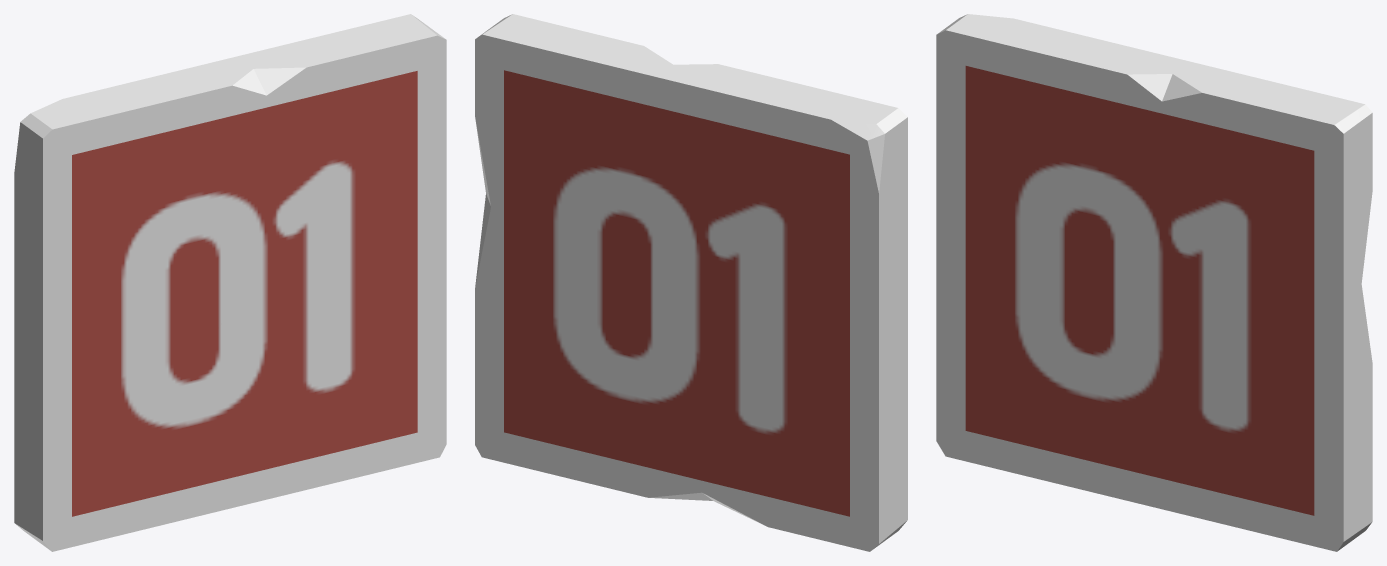
Rendered from SM_SignBorder_Number_01.fbx.
3 renders of one model, left to right at view 1: azimuth 30°, elevation 25°; view 2: azimuth 150°, elevation 25°; view 3: azimuth 330°, elevation 25°, orthographic.
Parts seen in each view (by area): view 1: SM_SignBorder_Number_01; view 2: SM_SignBorder_Number_01; view 3: SM_SignBorder_Number_01.
Boxes of the visible parts, bbox=[...] form: SM_SignBorder_Number_01: bbox=[14, 14, 446, 551]; SM_SignBorder_Number_01: bbox=[475, 14, 907, 551]; SM_SignBorder_Number_01: bbox=[936, 14, 1372, 551].
Bounding box in the file's own units: 117 × 117 × 14.42.
Materials: 1 (1 with a texture image).
